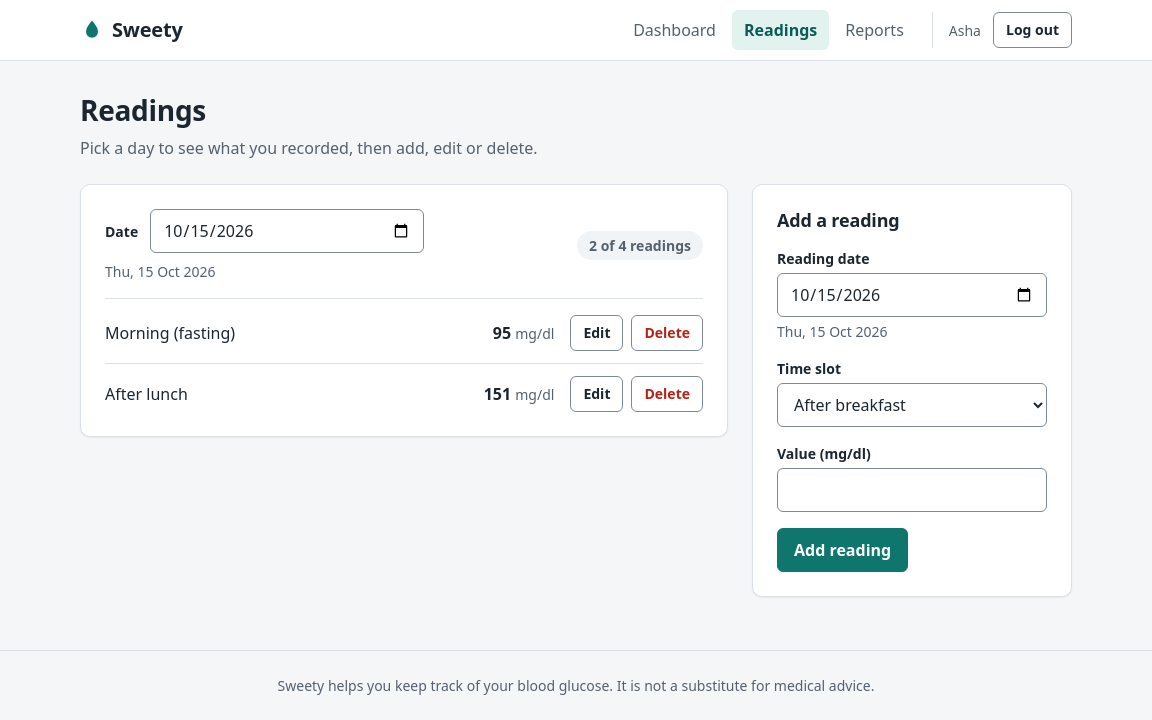
Editing and deleting readings › sends nothing when a delete is cancelled
Check: the text "2 of 4 readings" is shown, box top-left (577, 231), bottom-right (703, 260)
Step 1. Click the button with aria-label "Delete After lunch reading" → click(667, 394), box top-left (632, 376), bottom-right (703, 412)
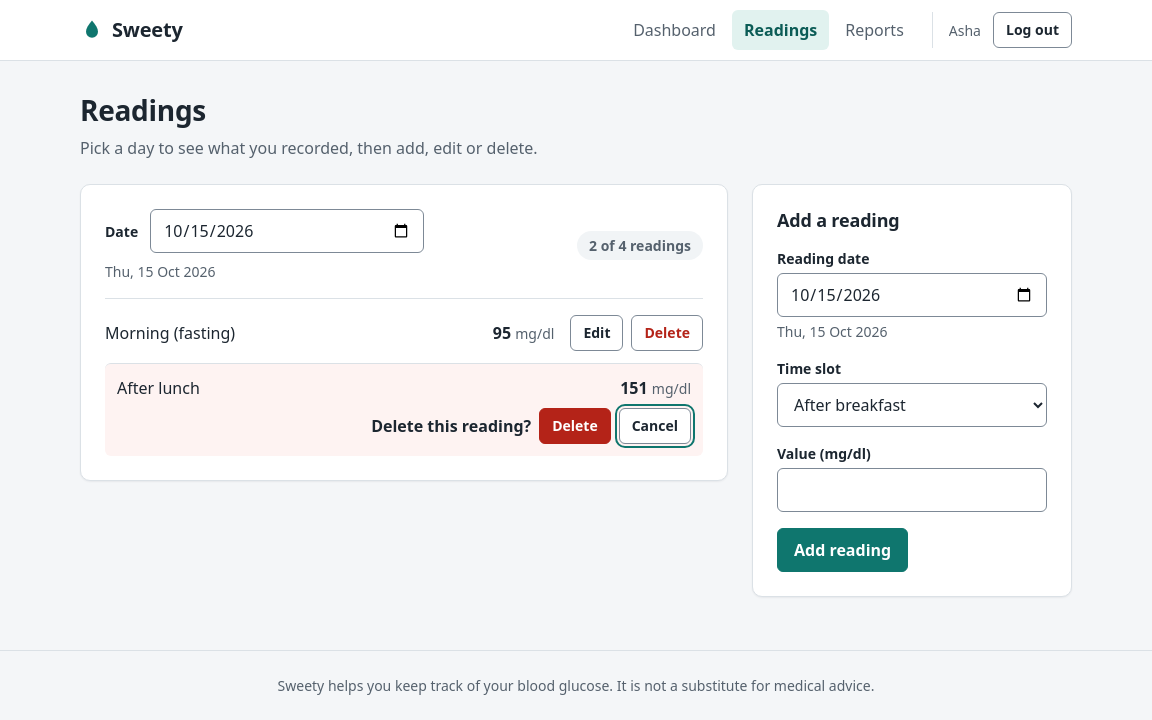
Step 2. Click the button "Cancel" → click(655, 426), box top-left (619, 408), bottom-right (691, 444)
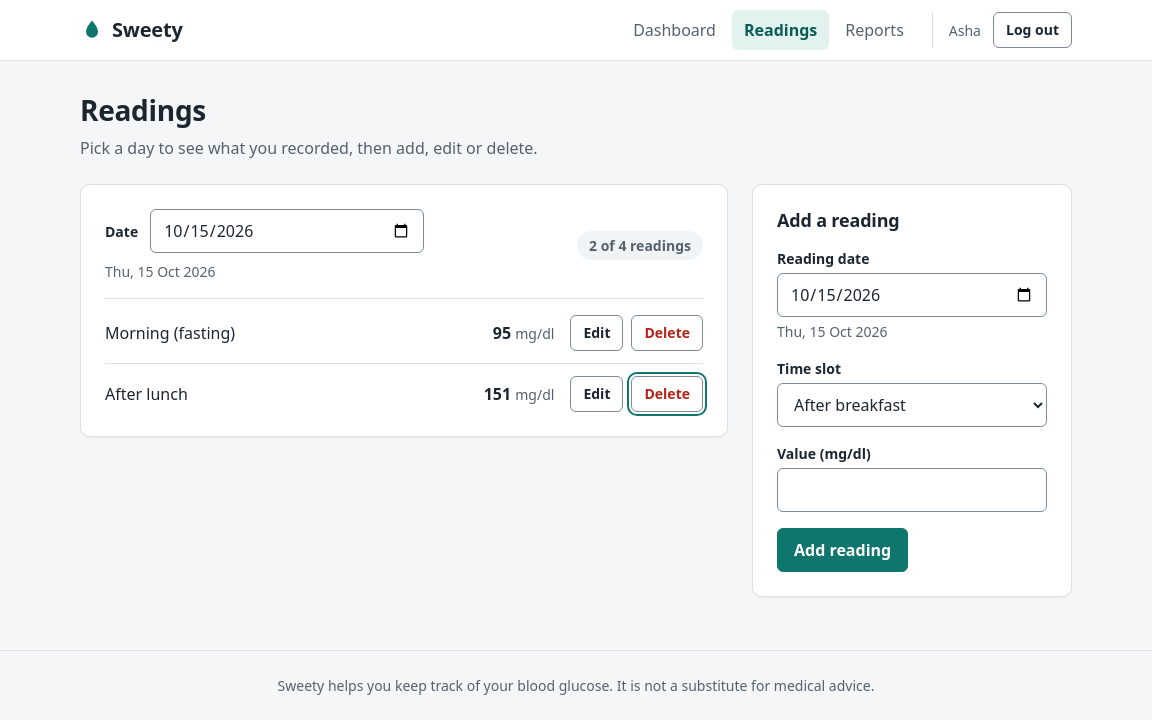
Check: the text "Delete this reading?" is gone
